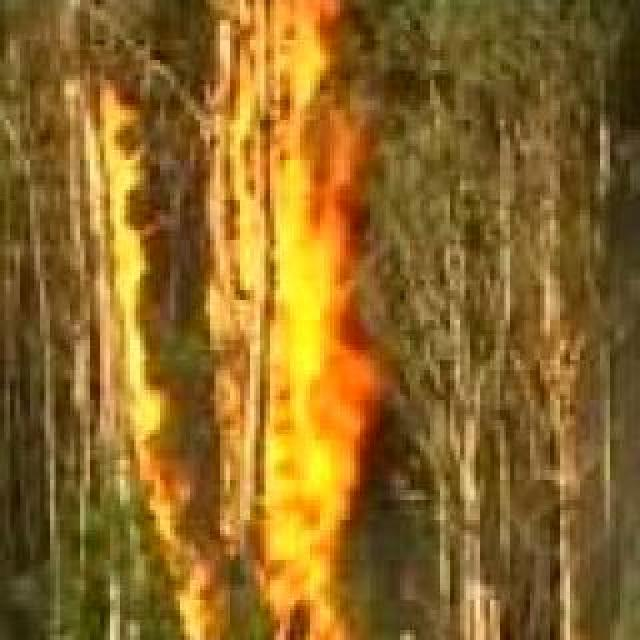fire: (60, 92, 380, 640), (186, 0, 334, 100)
